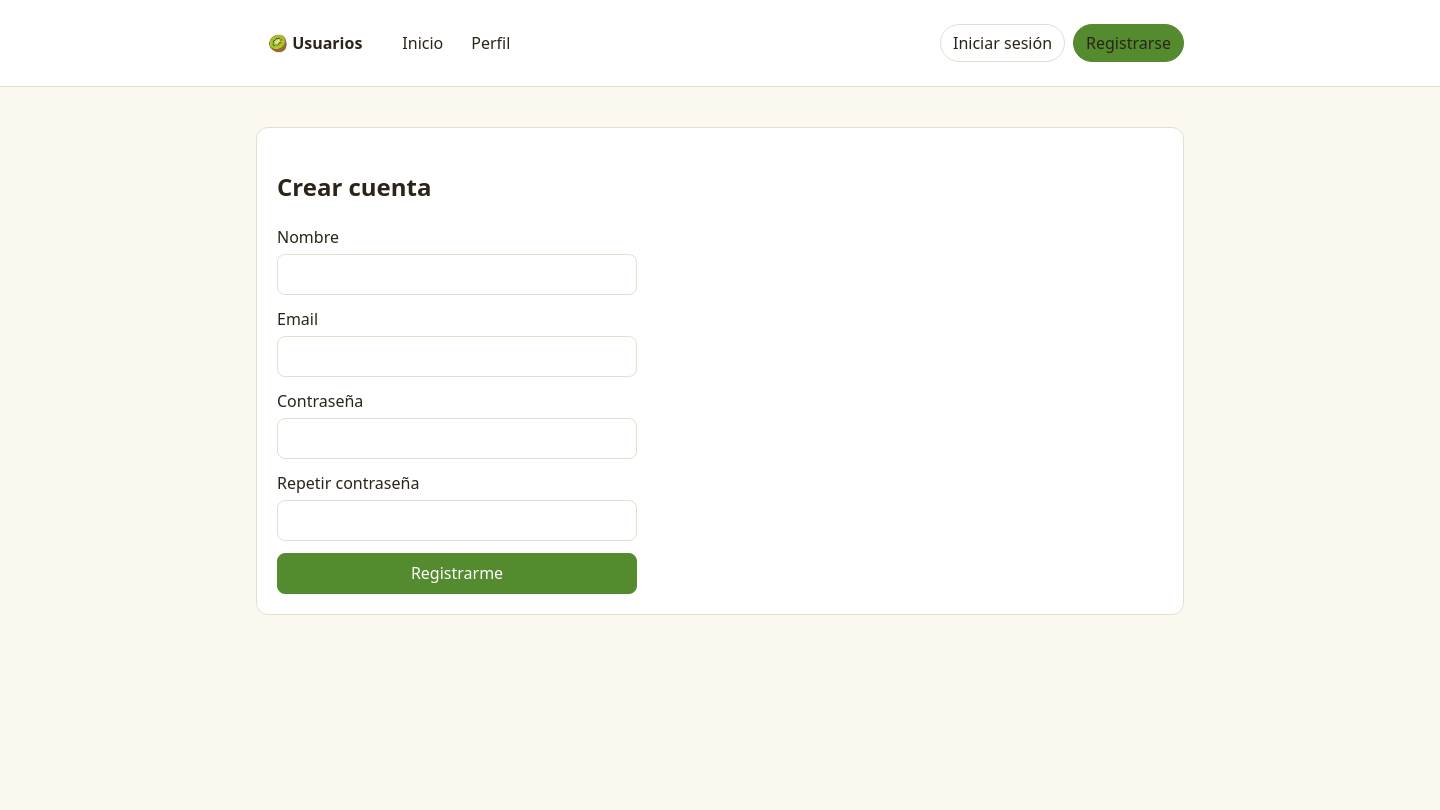
Test case: Manejo de usuario › registra un usuario nuevo y valida contraseñas
Type "Nueva" into the field labelled "Nombre" at (457,274), box x1=277 y1=254 x2=637 y2=295
Type "nueva@kiwi.cl" into the field labelled "Email" at (457,356), box x1=277 y1=336 x2=637 y2=377
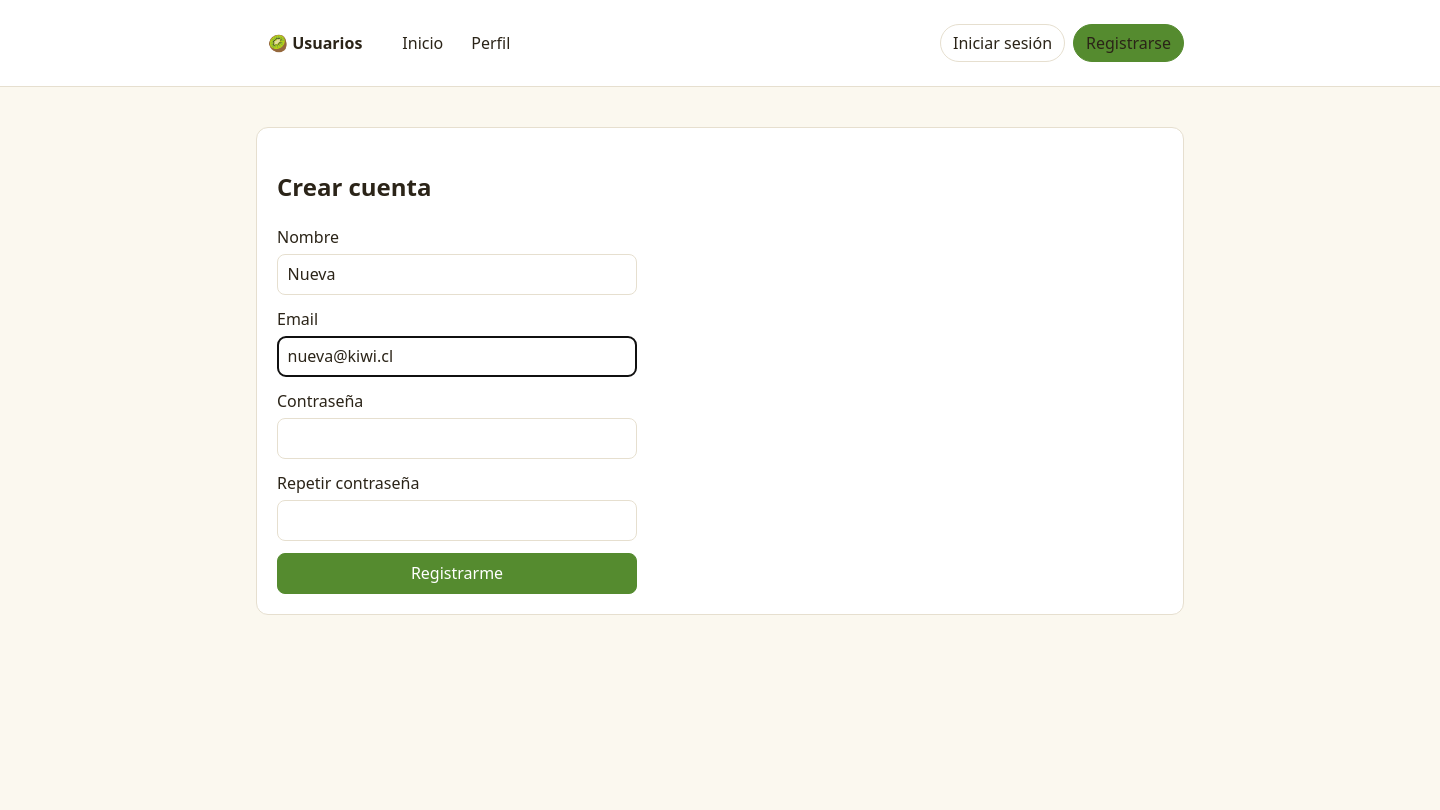
Type "secreta1" into the password field labelled "Contraseña" at (457,438), box x1=277 y1=418 x2=637 y2=459
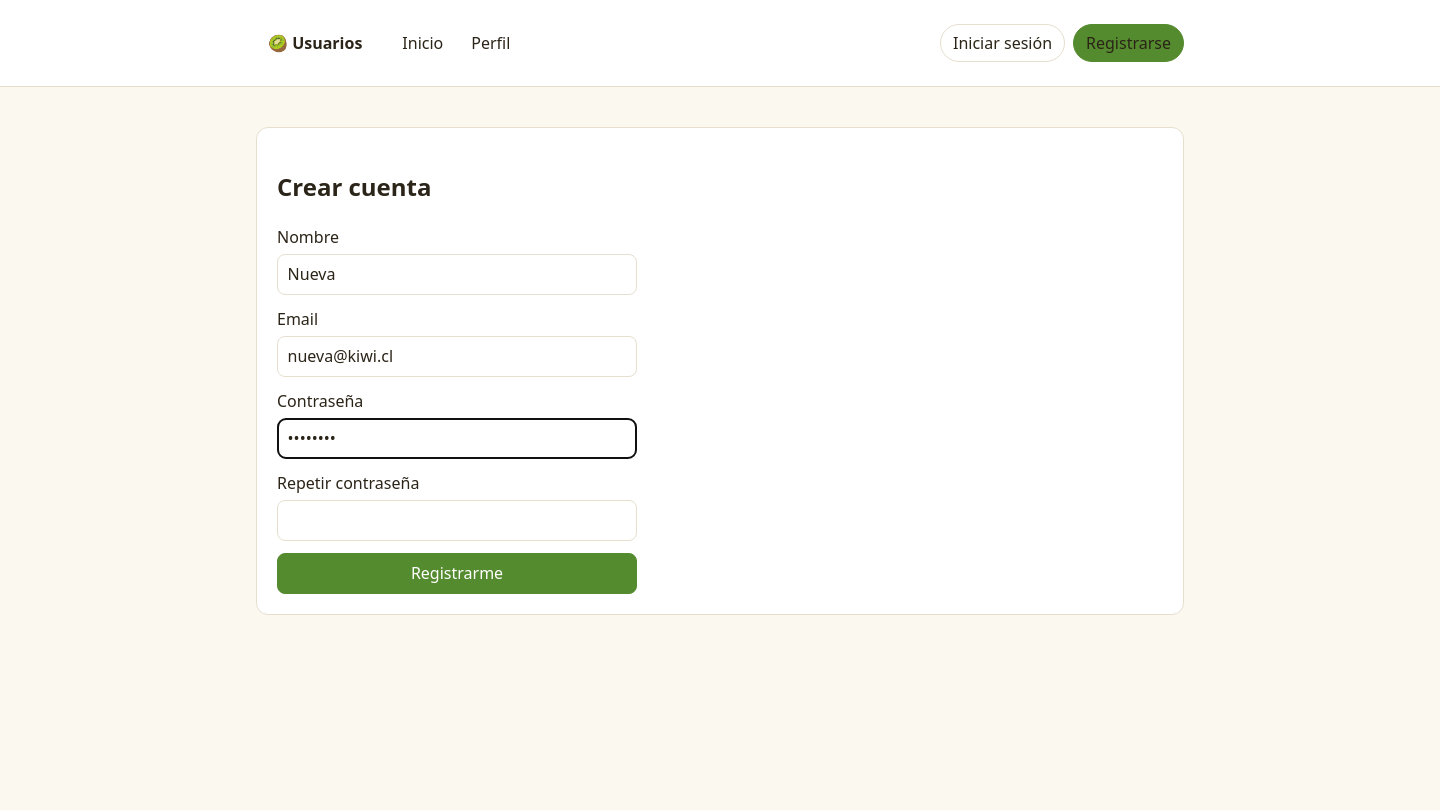
Type "otra" into the password field labelled "Repetir contraseña" at (457,520), box x1=277 y1=500 x2=637 y2=541
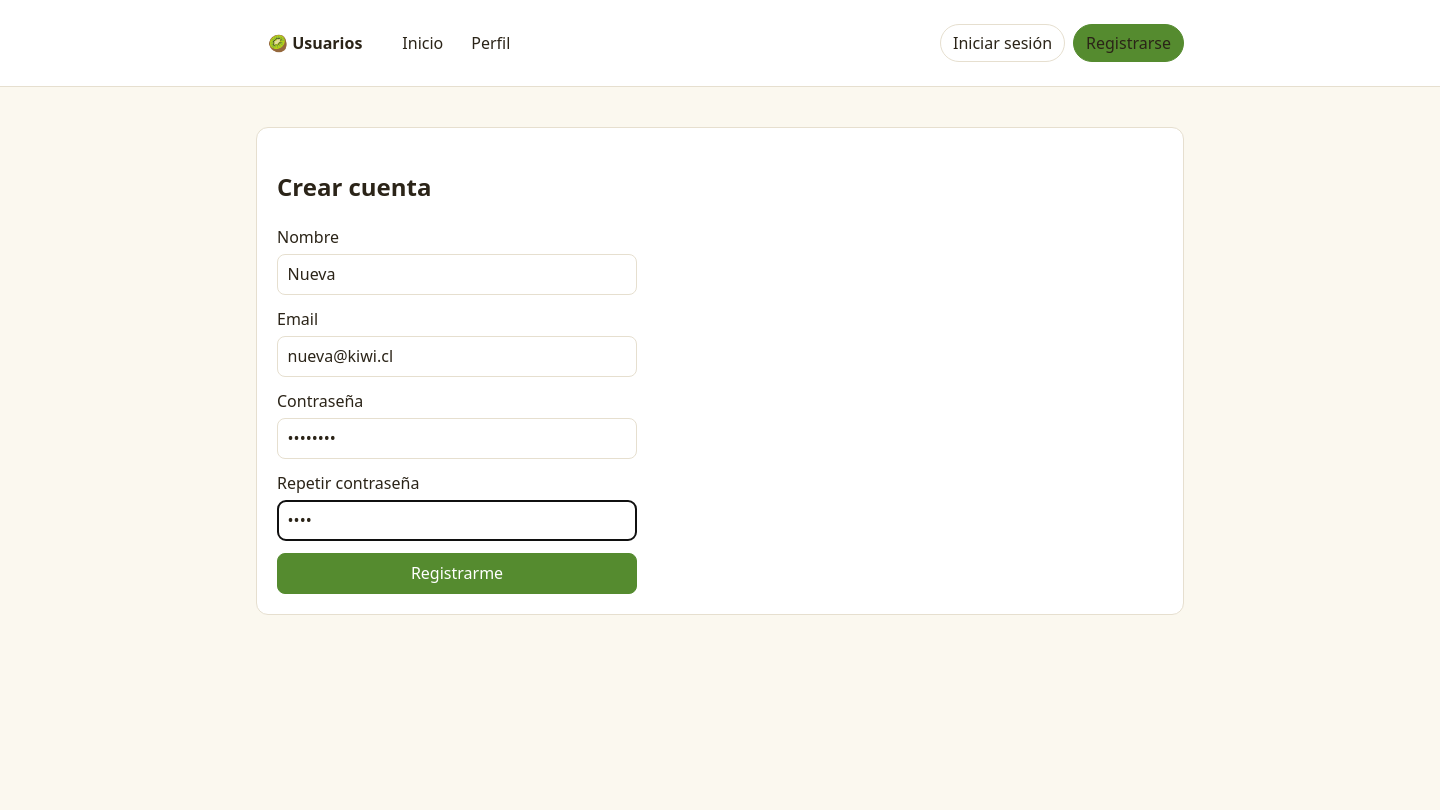
Click the button "Registrarme" at (457,574), box x1=277 y1=553 x2=637 y2=594
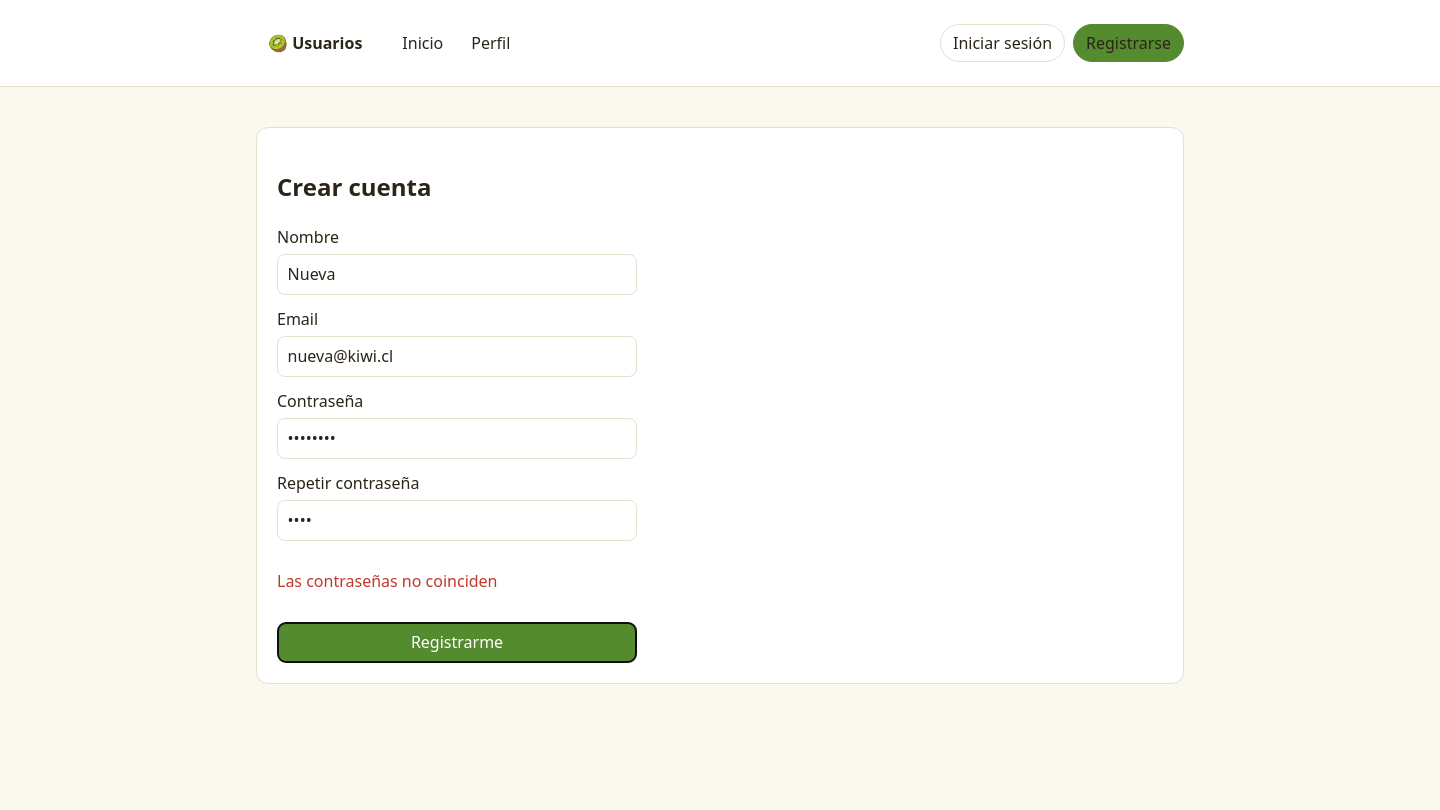
Result: the message shows "no coinciden" at x1=277 y1=570 x2=498 y2=592
Type "secreta1" into the password field labelled "Repetir contraseña" at (457,520), box x1=277 y1=500 x2=637 y2=541
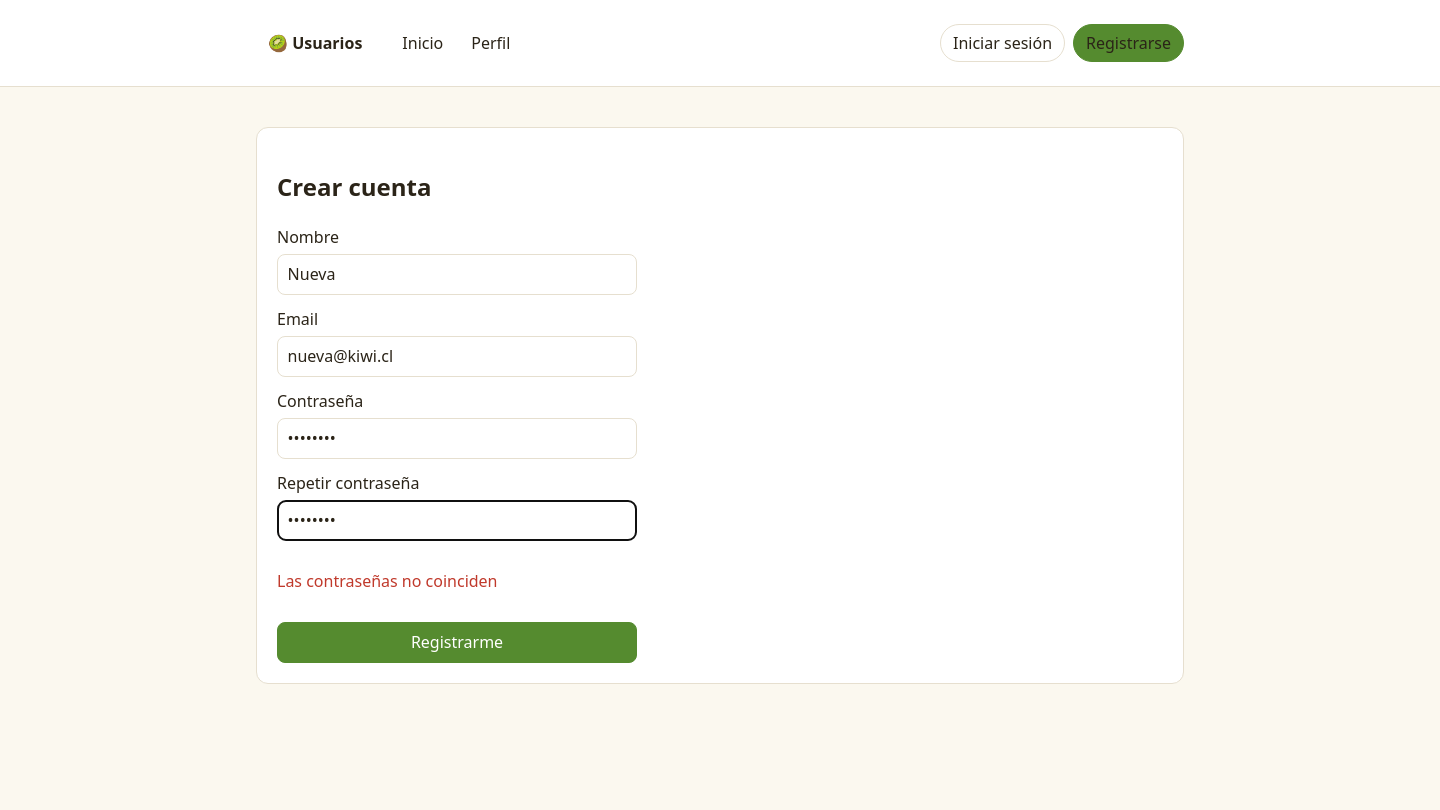
Click the button "Registrarme" at (457,642), box x1=277 y1=622 x2=637 y2=663
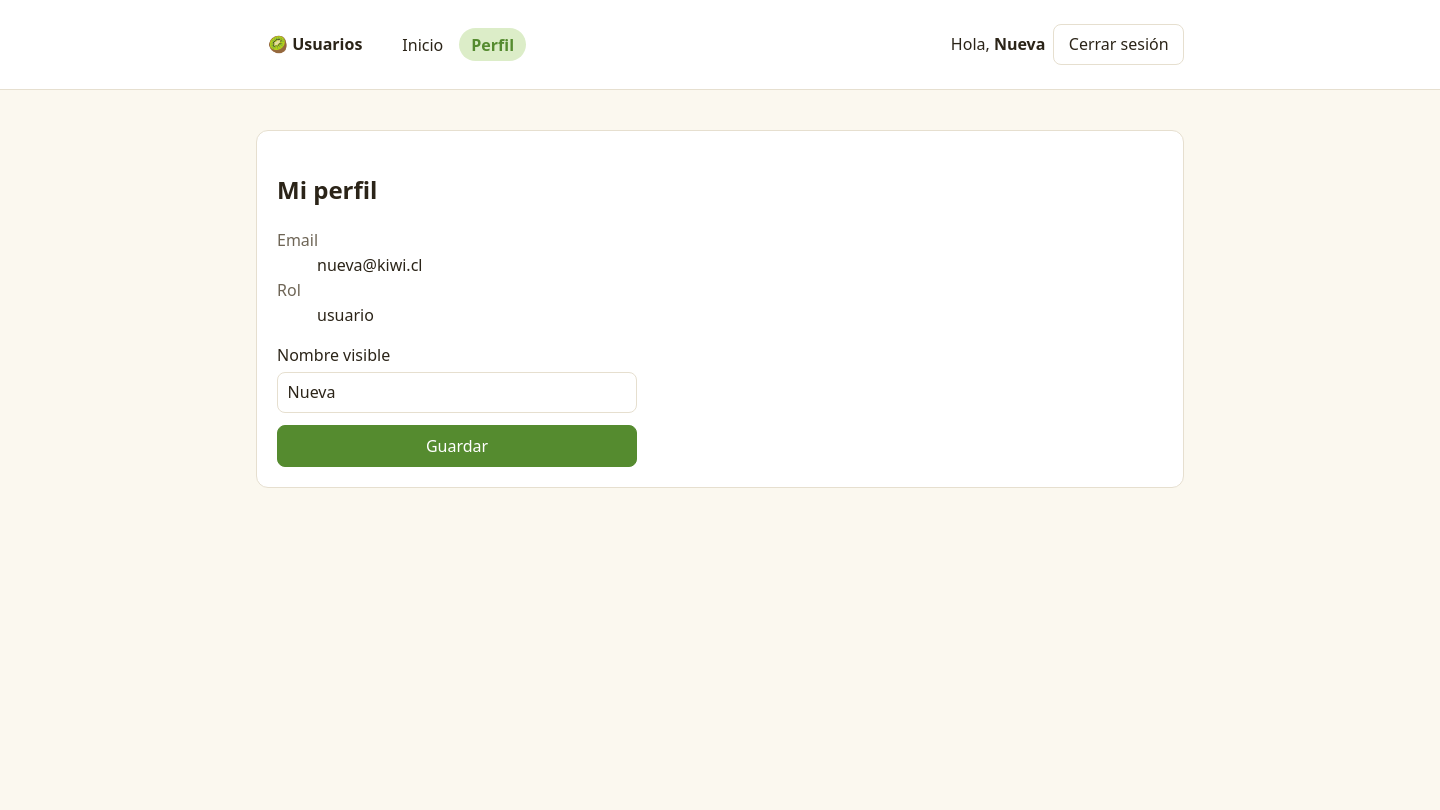
Result: the heading "Mi perfil" is shown at x1=277 y1=173 x2=377 y2=206
Result: the text "nueva@kiwi.cl" is shown at x1=317 y1=254 x2=422 y2=276
